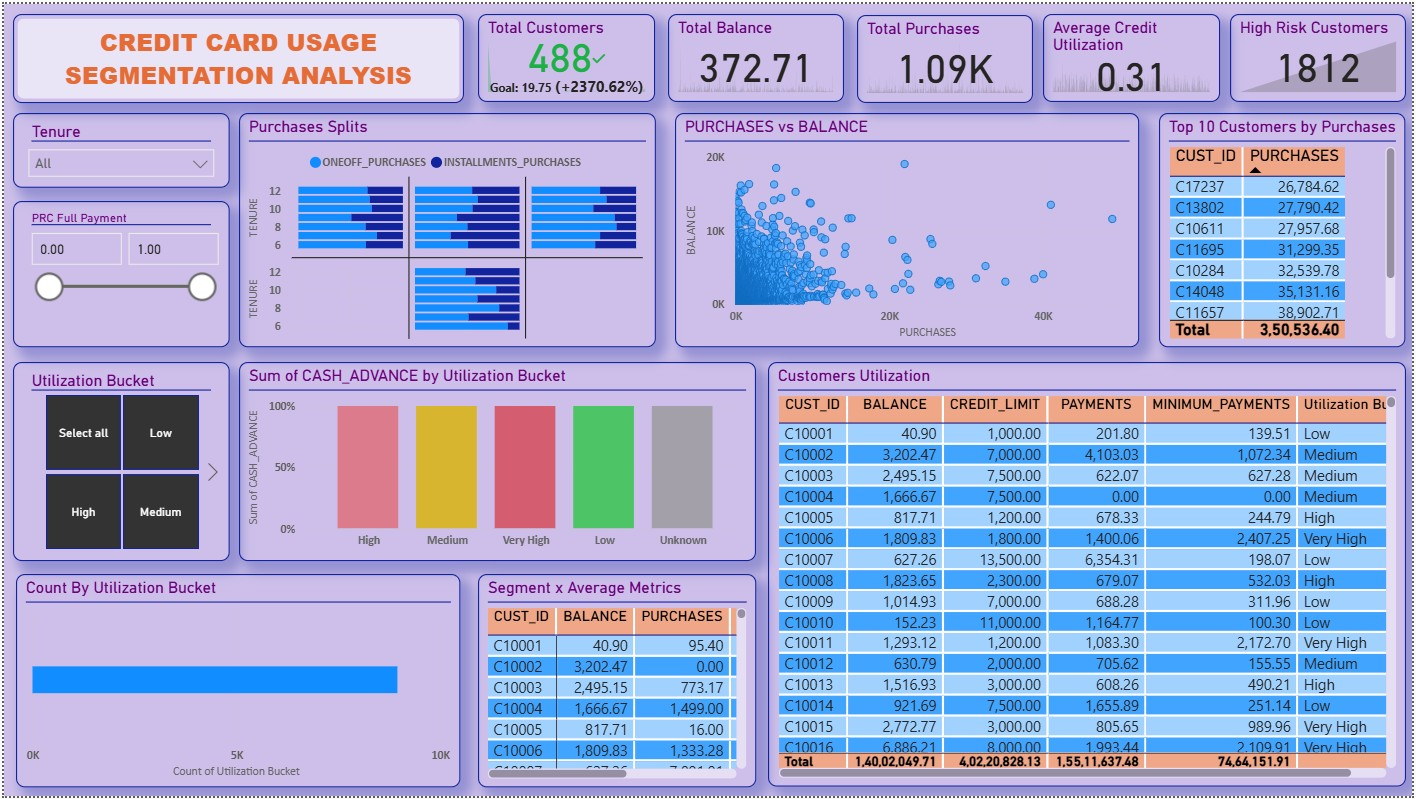

The dashboard page shown, as its layout file describes it:
{"tool":"powerbi","page":{"name":"Executive Summary","canvas":[1280,720],"ordinal":0},"visuals":[{"type":"slicer","fields":{"Values":["Customer.TENURE"]},"box":[7.8,98.9,196.7,67.8],"z":0},{"type":"slicer","fields":{"Values":["Customer.Utilization Bucket"]},"box":[7.8,325.6,196.7,181.1],"z":1000},{"type":"slicer","fields":{"Values":["Customer.PRC_FULL_PAYMENT"]},"box":[7.8,178.9,196.7,133.3],"z":2000},{"type":"kpi","title":"Total Purchases","fields":{"Indicator":["Customer.Total Purchases"],"TrendLine":["Customer.CUST_ID"]},"box":[775.6,10,160,80],"z":3000},{"type":"kpi","title":"Total Balance","fields":{"Indicator":["Customer.Total Balance"],"TrendLine":["Customer.CUST_ID"]},"box":[603.3,8.9,160,80],"z":4000},{"type":"kpi","title":"Average Credit Utilization","fields":{"Indicator":["Customer.Average Credit Utilization"],"TrendLine":["Customer.CUST_ID"]},"box":[944.4,8.9,161.1,80],"z":5000},{"type":"kpi","title":"Total Customers","fields":{"Indicator":["Customer.Total Customers"],"TrendLine":["Customer.PRC_FULL_PAYMENT"],"Goal":["Sum(Customer.Utilization)"]},"box":[431.1,8.9,161.1,80],"z":6000},{"type":"shape","box":[7.8,8.9,410,81.1],"z":7000},{"type":"hundredPercentStackedBarChart","title":"Purchases Splits","fields":{"Y":["Sum(Customer.ONEOFF_PURCHASES)","Sum(Customer.INSTALLMENTS_PURCHASES)"],"Category":["Customer.TENURE"],"Rows":["Customer.Utilization Bucket"]},"box":[213.3,98.9,378.9,213.3],"z":8000},{"type":"scatterChart","title":"PURCHASES vs BALANCE","fields":{"X":["Customer.PURCHASES"],"Y":["Customer.BALANCE"]},"box":[610,98.9,422.2,213.3],"z":9000},{"type":"tableEx","title":"Top 10 Customers by Purchases","fields":{"Values":["Customer.CUST_ID","Sum(Customer.PURCHASES)"]},"box":[1050,98.9,224.4,213.3],"z":10000},{"type":"clusteredBarChart","title":"Count By Utilization Bucket","fields":{"Y":["CountNonNull(Customer.Utilization Bucket)"]},"box":[10.9,518.2,403.6,193.6],"z":11000},{"type":"pivotTable","title":"Segment x Average Metrics","fields":{"Values":["Sum(Customer.BALANCE)","Sum(Customer.PURCHASES)","Sum(Customer.PRC_FULL_PAYMENT)"],"Rows":["Customer.CUST_ID"]},"box":[430.9,518.2,252.7,193.6],"z":12000},{"type":"hundredPercentStackedColumnChart","fields":{"Y":["Sum(Customer.CASH_ADVANCE)"],"Category":["Customer.Utilization Bucket"]},"box":[213.3,325.6,470,181.1],"z":13000},{"type":"kpi","title":"High Risk Customers","fields":{"TrendLine":["Customer.Utilization Bucket"],"Indicator":["Customer.High Risk Customers"]},"box":[1114.4,8.9,160,80],"z":14000},{"type":"tableEx","title":"Customers Utilization","fields":{"Values":["Customer.CUST_ID","Sum(Customer.BALANCE)","Sum(Customer.CREDIT_LIMIT)","Sum(Customer.PAYMENTS)","Sum(Customer.MINIMUM_PAYMENTS)","Customer.Utilization Bucket"]},"box":[694.5,325.5,580,386.4],"z":15000}]}

Visuals, with their boxes in screenshot pixels (x1, y1, x2, y2), scaled from the page's 1280x720 canvas onto the 1416x799 screenshot:
slicer - Customer.TENURE: [x1=9, y1=110, x2=226, y2=185]
slicer - Customer.Utilization Bucket: [x1=9, y1=361, x2=226, y2=562]
slicer - Customer.PRC_FULL_PAYMENT: [x1=9, y1=199, x2=226, y2=346]
"Total Purchases" kpi: [x1=858, y1=11, x2=1035, y2=100]
"Total Balance" kpi: [x1=667, y1=10, x2=844, y2=99]
"Average Credit Utilization" kpi: [x1=1045, y1=10, x2=1223, y2=99]
"Total Customers" kpi: [x1=477, y1=10, x2=655, y2=99]
shape: [x1=9, y1=10, x2=462, y2=100]
"Purchases Splits" hundredPercentStackedBarChart: [x1=236, y1=110, x2=655, y2=346]
"PURCHASES vs BALANCE" scatterChart: [x1=675, y1=110, x2=1142, y2=346]
"Top 10 Customers by Purchases" tableEx: [x1=1162, y1=110, x2=1410, y2=346]
"Count By Utilization Bucket" clusteredBarChart: [x1=12, y1=575, x2=459, y2=790]
"Segment x Average Metrics" pivotTable: [x1=477, y1=575, x2=756, y2=790]
hundredPercentStackedColumnChart - Sum(Customer.CASH_ADVANCE) x Customer.Utilization Bucket: [x1=236, y1=361, x2=756, y2=562]
"High Risk Customers" kpi: [x1=1233, y1=10, x2=1410, y2=99]
"Customers Utilization" tableEx: [x1=768, y1=361, x2=1410, y2=790]
